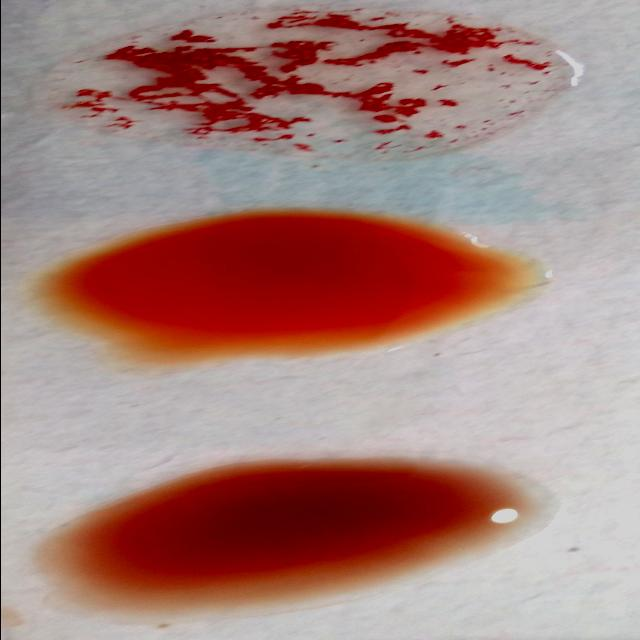D: (46, 13, 564, 158)
